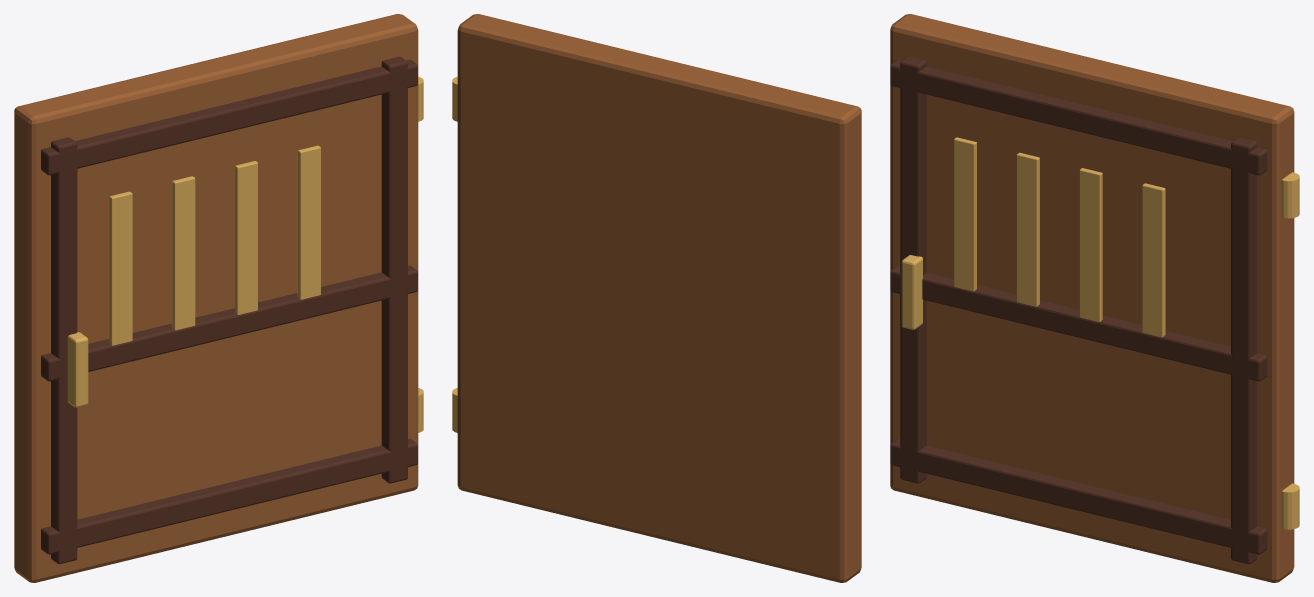
Rendered from door-right.glb.
The picture shows the model from 3 angles, left to right: view 1: azimuth 30°, elevation 25°; view 2: azimuth 150°, elevation 25°; view 3: azimuth 330°, elevation 25°; orthographic projection.
Parts seen in each view (by area): view 1: RM_door timber.001, RM_door rail, RM_door carving; view 2: RM_door timber.001; view 3: RM_door timber.001, RM_door rail, RM_door carving.
Boxes of the visible parts, x1,y1,x2,y2 form: RM_door timber.001: [14, 14, 418, 582]; RM_door rail: [41, 56, 417, 564]; RM_door carving: [67, 76, 423, 432]; RM_door timber.001: [457, 14, 861, 582]; RM_door timber.001: [890, 14, 1294, 582]; RM_door rail: [890, 56, 1267, 564]; RM_door carving: [901, 137, 1299, 529].
Bounding box in the file's own units: 1.91 × 2.13 × 0.29.
